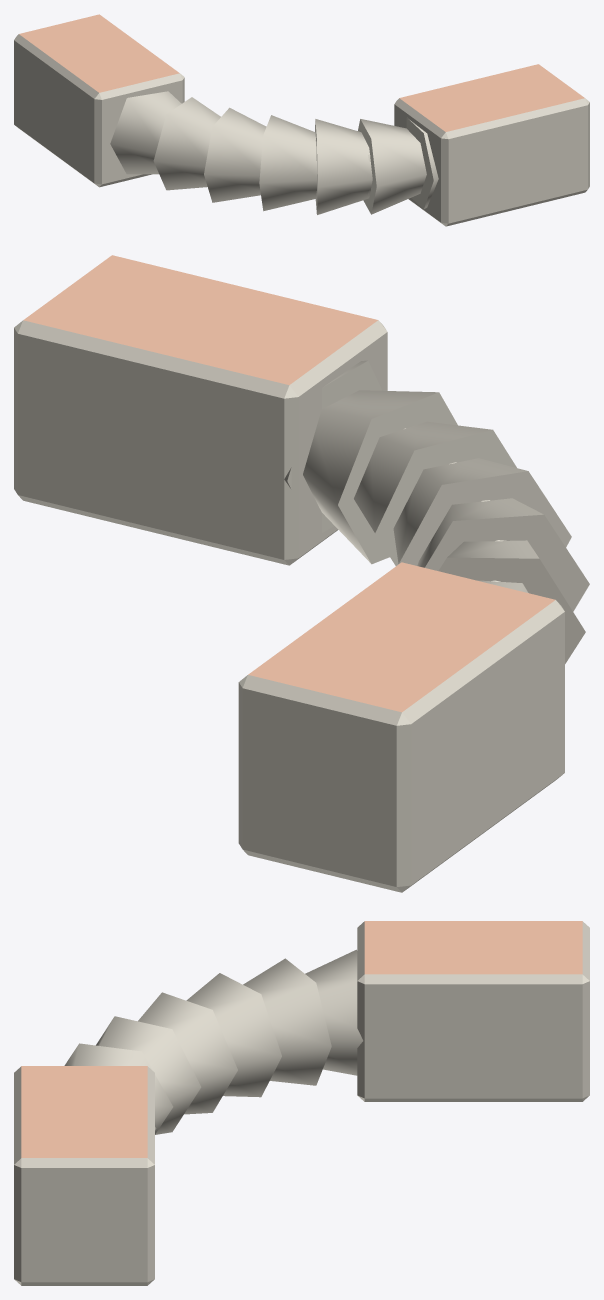
The model's file is R4C_ROD_ARC_SHORT_LOD1.fbx.
3 views of the same model, one above another, from view 1: azimuth 30°, elevation 25°; view 2: azimuth 150°, elevation 25°; view 3: azimuth 270°, elevation 25° (orthographic). The views are drawn at different scales.
Parts seen in each view (by area): view 1: R4C_ROD_ARC_SHORT_LOD1; view 2: R4C_ROD_ARC_SHORT_LOD1; view 3: R4C_ROD_ARC_SHORT_LOD1.
Part boxes in pixels (x1,y1,x2,y2): R4C_ROD_ARC_SHORT_LOD1: (14, 14, 589, 226); R4C_ROD_ARC_SHORT_LOD1: (14, 255, 589, 892); R4C_ROD_ARC_SHORT_LOD1: (14, 921, 589, 1285).
Bounding box in the file's own units: 0.923 × 0.226 × 0.923.
